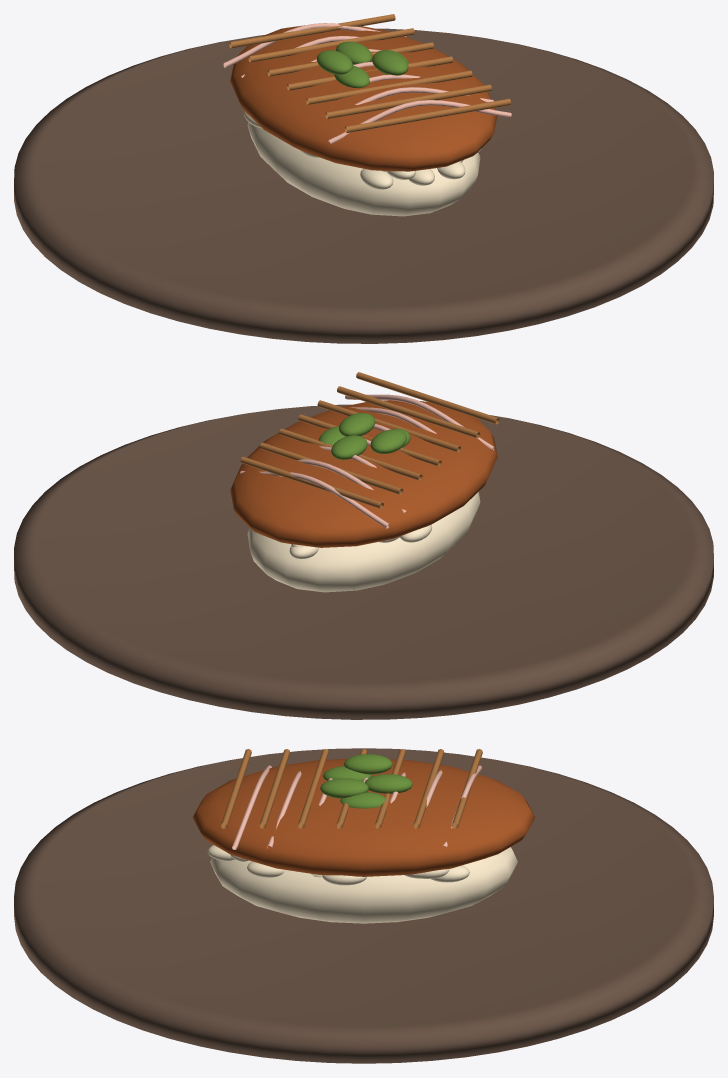
The model's file is 56-wagyu.glb.
The picture shows the model from 3 angles, top to bottom: view 1: azimuth 30°, elevation 25°; view 2: azimuth 150°, elevation 25°; view 3: azimuth 270°, elevation 25°; orthographic projection.
Parts seen in each view (by area): view 1: 와규 아부리 초밥; view 2: 와규 아부리 초밥; view 3: 와규 아부리 초밥.
Part boxes in pixels (x1,y1,x2,y2): 와규 아부리 초밥: (14, 14, 713, 343); 와규 아부리 초밥: (14, 372, 713, 719); 와규 아부리 초밥: (14, 748, 713, 1063).
Bounding box in the file's own units: 2 × 0.521 × 2.
